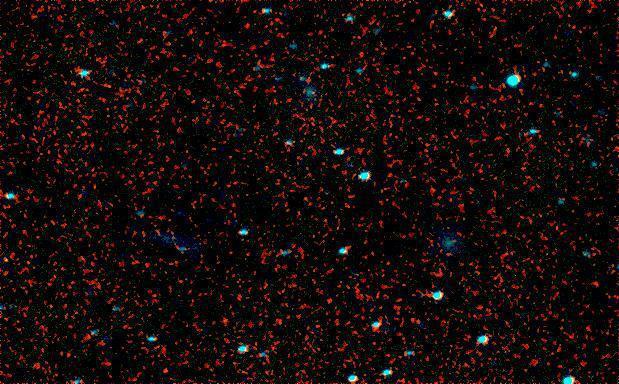star: (153, 352, 183, 382)
